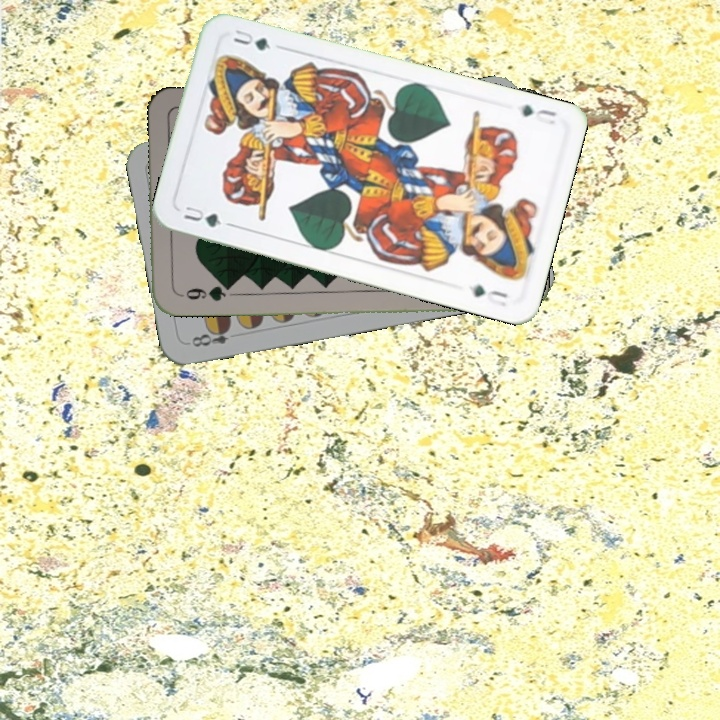E8: (187, 322, 234, 350)
G9: (173, 281, 232, 304)
GU: (180, 202, 234, 230), (517, 100, 560, 127)
